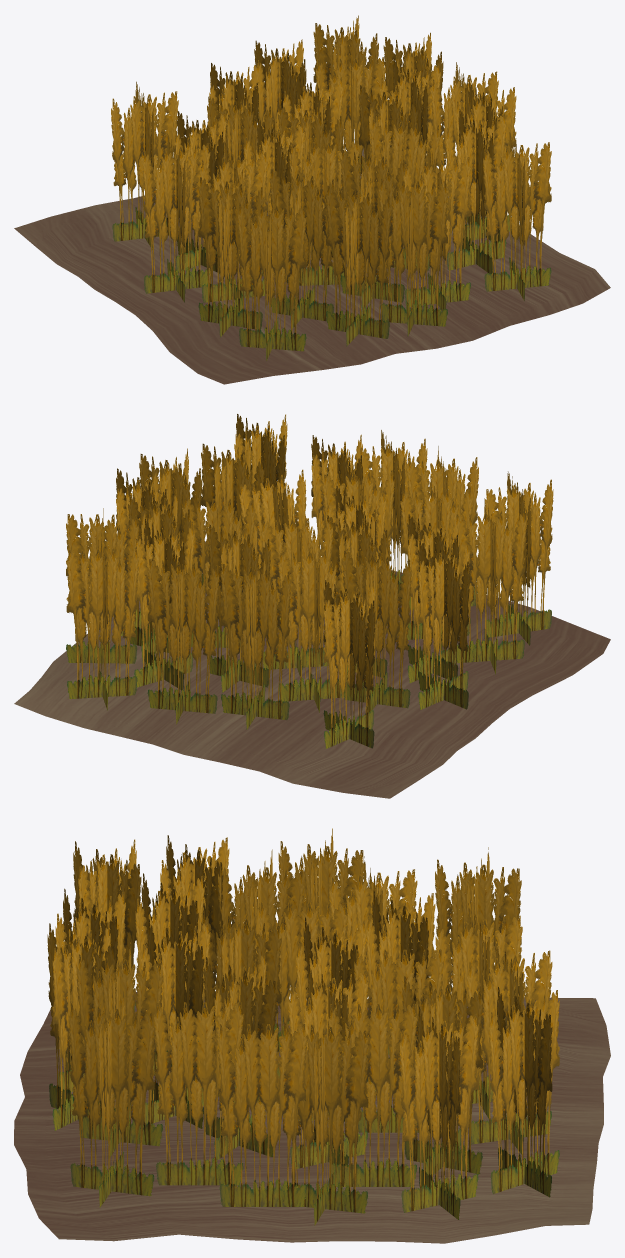
Rendered from m_wheat.fbx.
3 renders of one model, top to bottom at view 1: azimuth 30°, elevation 25°; view 2: azimuth 150°, elevation 25°; view 3: azimuth 270°, elevation 25°, orthographic. The views are drawn at different scales.
Parts seen in each view (by area): view 1: Wheat; view 2: Wheat; view 3: Wheat.
Part boxes in pixels (<box>): Wheat: <box>14,15,610,384</box>; Wheat: <box>14,414,610,798</box>; Wheat: <box>14,828,610,1243</box>.
Size of the model in its own units: 23.23 by 8.41 by 23.3.
1 material, 1 textured.
